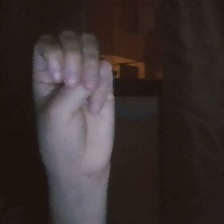M: (26, 24, 129, 189)
